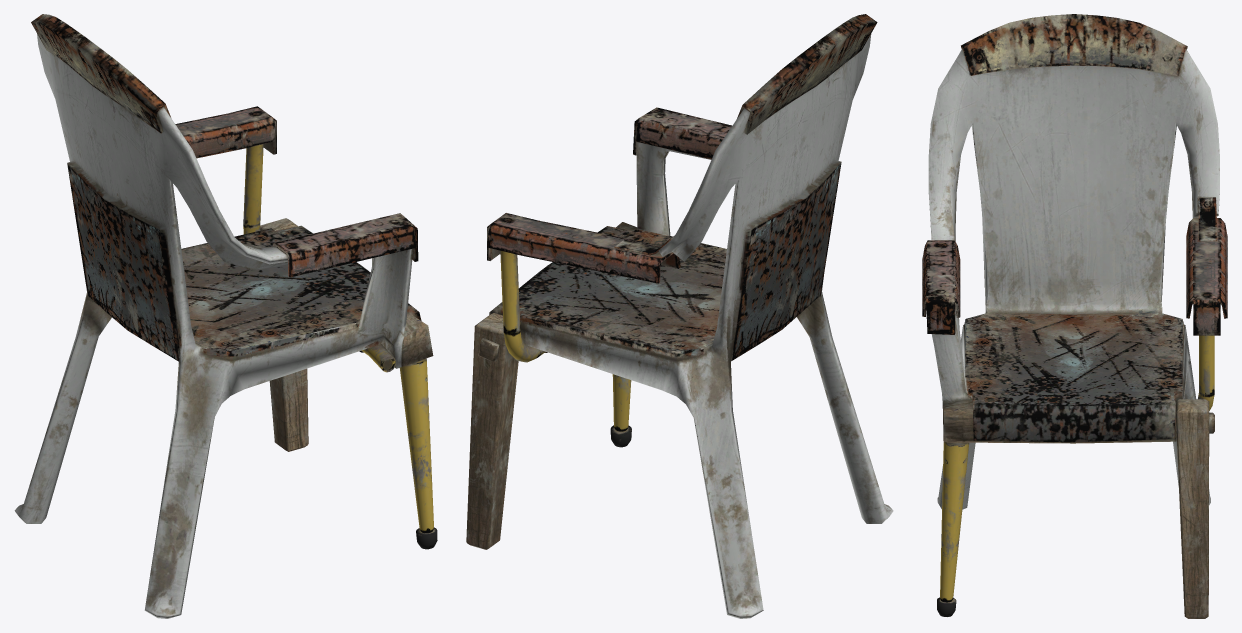
File: chair.gltf
3 renders of one model, left to right at view 1: azimuth 30°, elevation 25°; view 2: azimuth 150°, elevation 25°; view 3: azimuth 270°, elevation 25°, orthographic. The views are drawn at different scales.
Visible parts, largest first — view 1: Collection.smd; view 2: Collection.smd; view 3: Collection.smd.
Part boxes in pixels (x1,y1,x2,y2): Collection.smd: (14, 14, 437, 618); Collection.smd: (466, 14, 893, 618); Collection.smd: (922, 14, 1227, 618).
Bounding box in the file's own units: 0.5755 × 0.9794 × 0.5559.
1 material, 1 textured.
